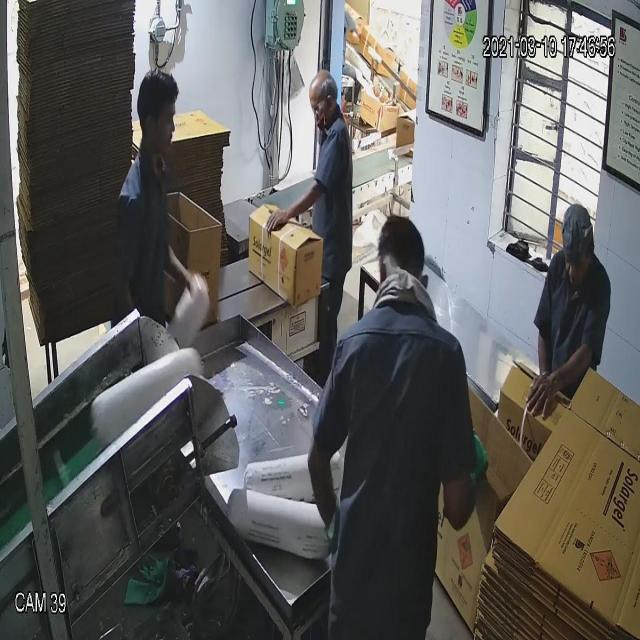No_Gloves: (72, 70, 562, 377)
